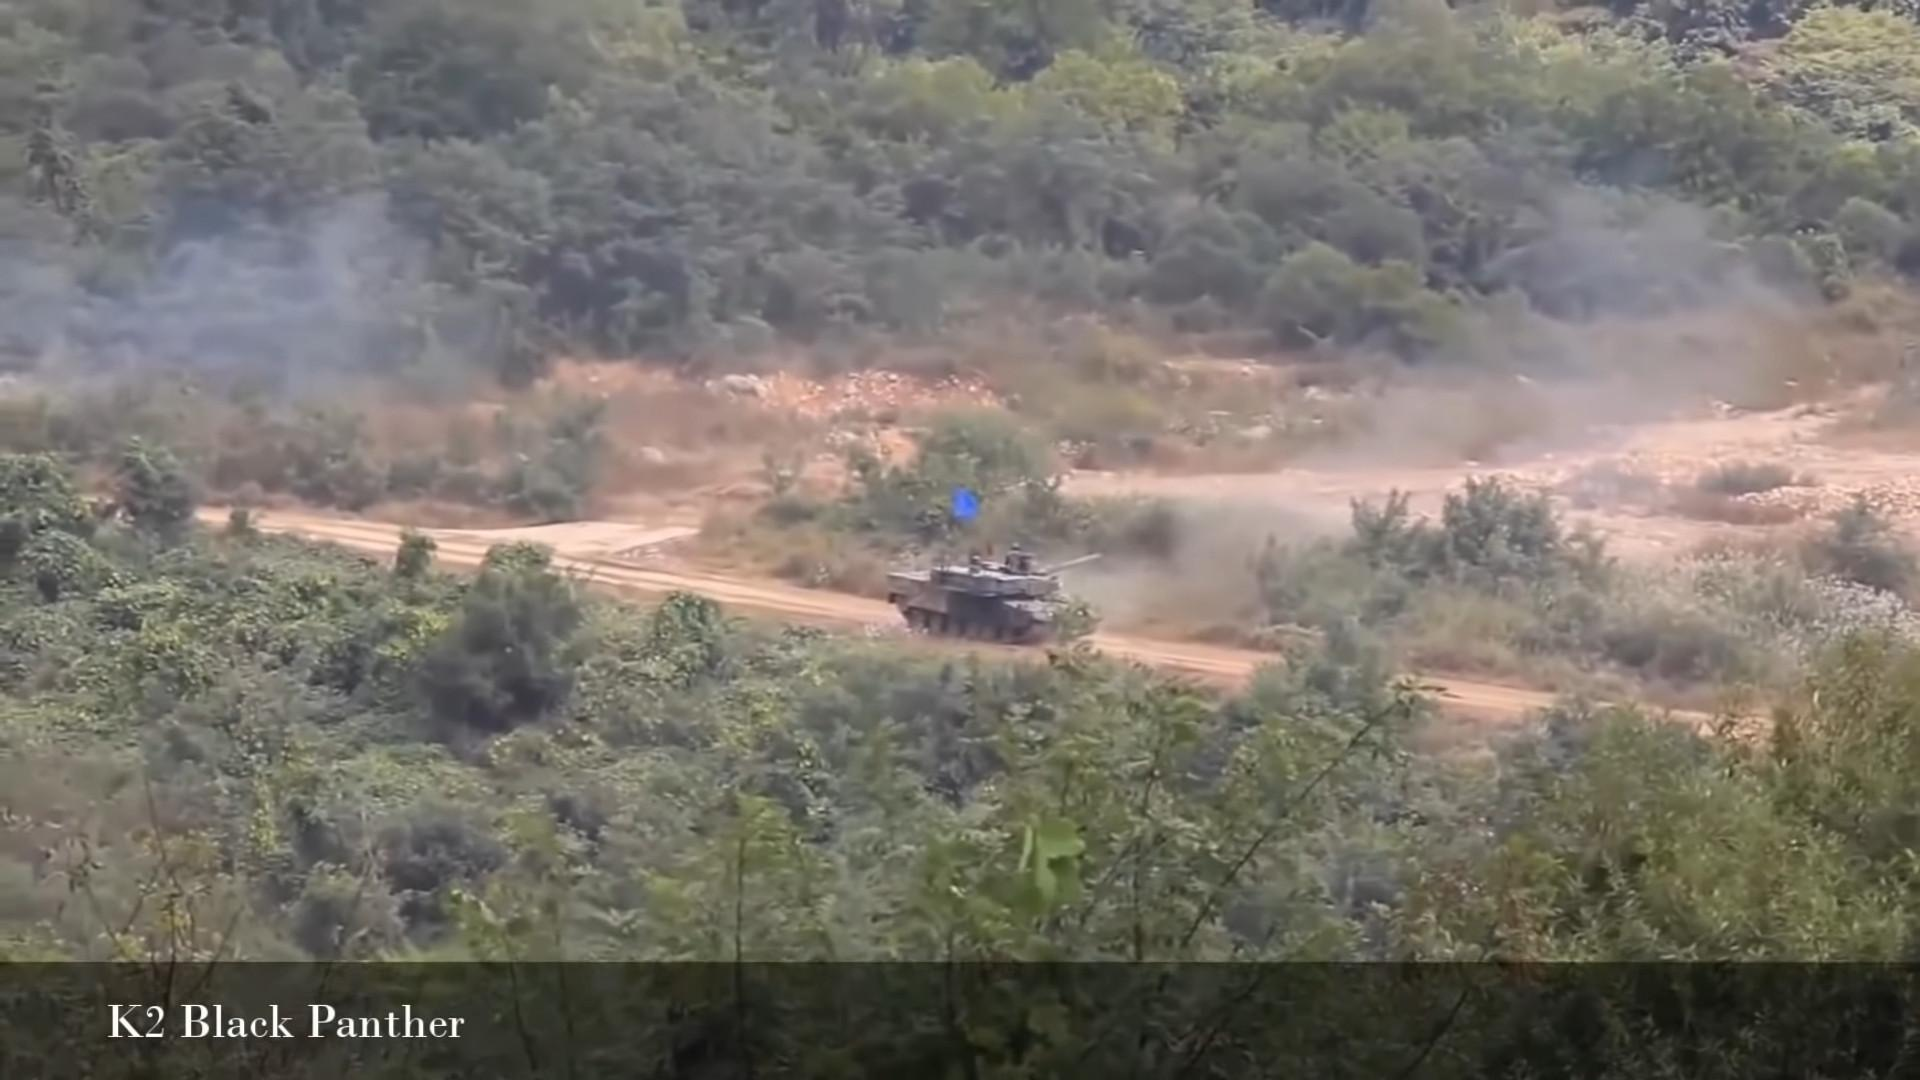tank: (886, 552, 1102, 643)
